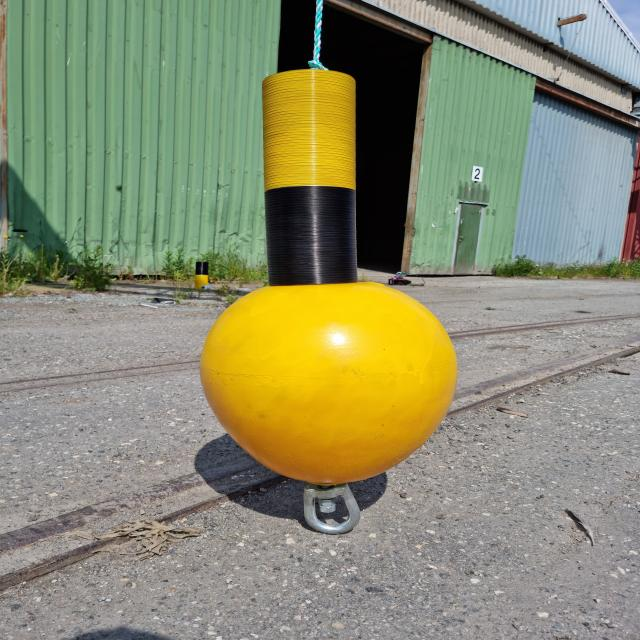west: (202, 68, 456, 484)
